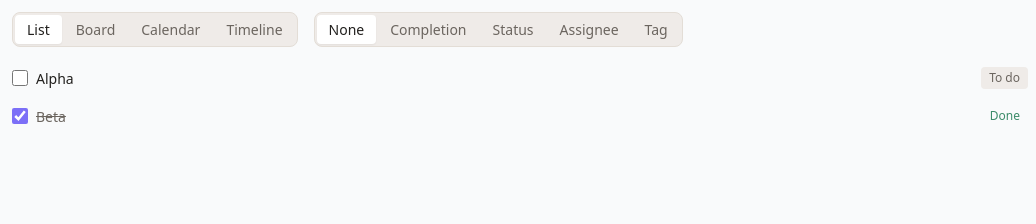
Test case: ViewContainer › group-by control is absent in timeline view
Step 1. Click the button "Timeline" → x=254, y=30, box [214,15,295,44]
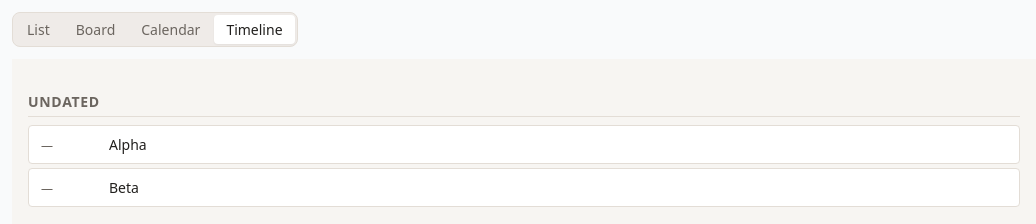
Now the element with test id "groupby-control" is gone
